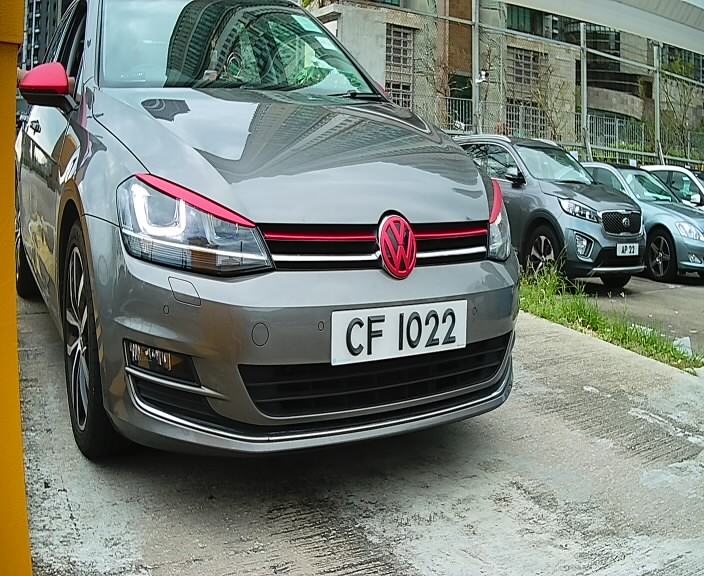License Plate: (325, 293, 473, 373)
